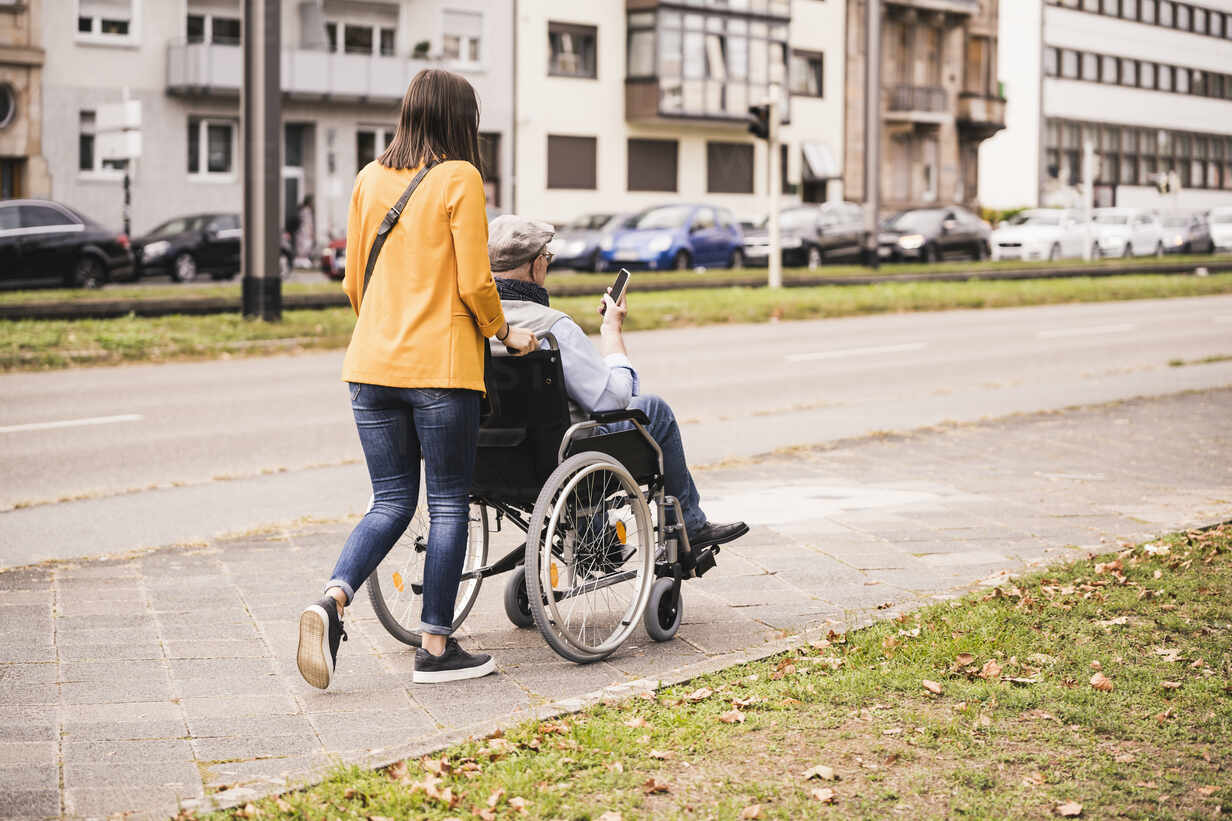wheelchair: (365, 213, 751, 667)
